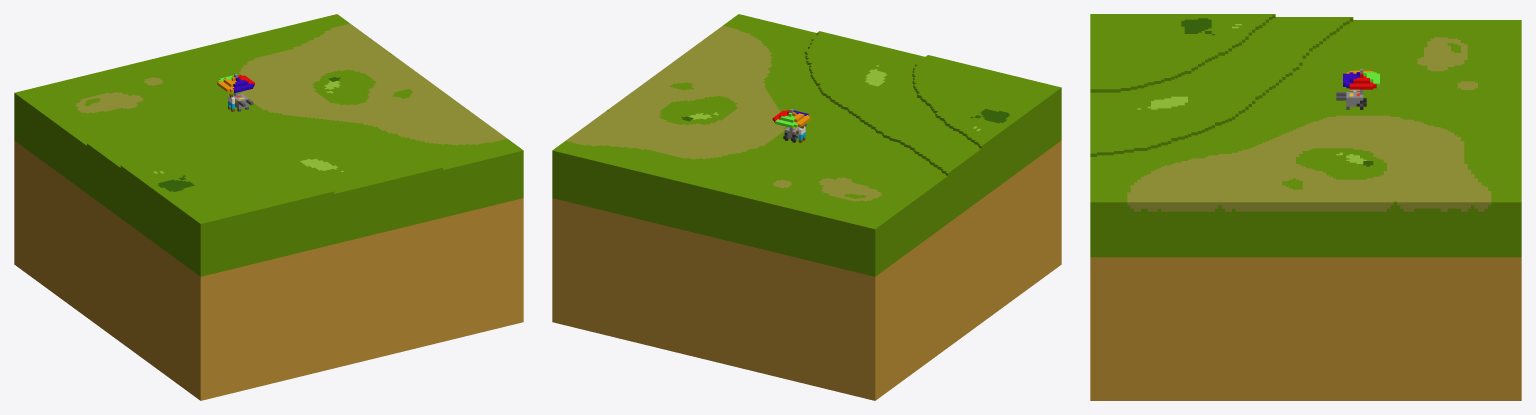
3 views of the same model, side by side, from view 1: azimuth 30°, elevation 25°; view 2: azimuth 150°, elevation 25°; view 3: azimuth 270°, elevation 25° (orthographic). The views are drawn at different scales.
Parts seen in each view (by area): view 1: 3A; view 2: 3A; view 3: 3A.
Boxes of the visible parts, left/top/right/bottom form: 3A: left=14, top=14, right=523, bottom=400; 3A: left=552, top=14, right=1061, bottom=400; 3A: left=1090, top=14, right=1521, bottom=400.
Size of the model in its own units: 12.8 by 7.7 by 12.8.
Materials: 1 (1 with a texture image).
